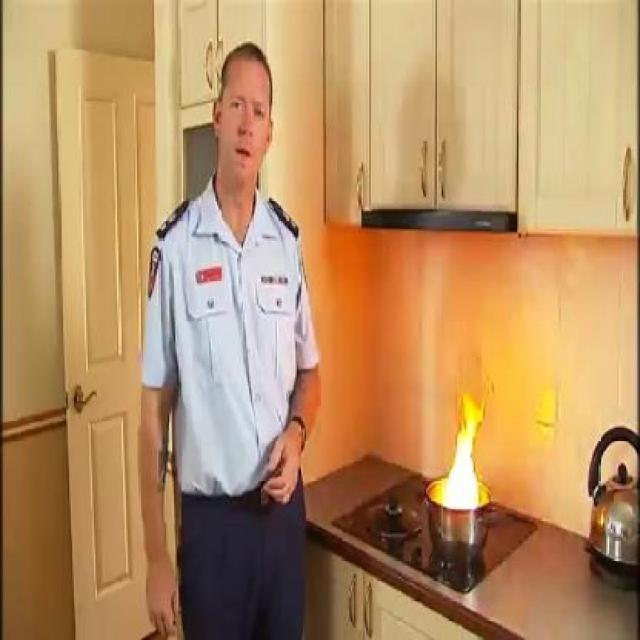fire: (430, 374, 493, 508)
